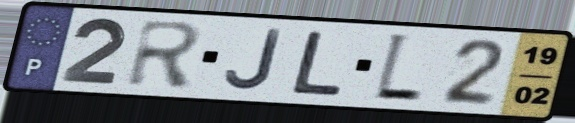2: (58, 15, 132, 88), (441, 37, 508, 106)
J: (222, 27, 285, 93)
L: (370, 30, 427, 106), (287, 28, 346, 98)
R: (123, 17, 208, 89)
